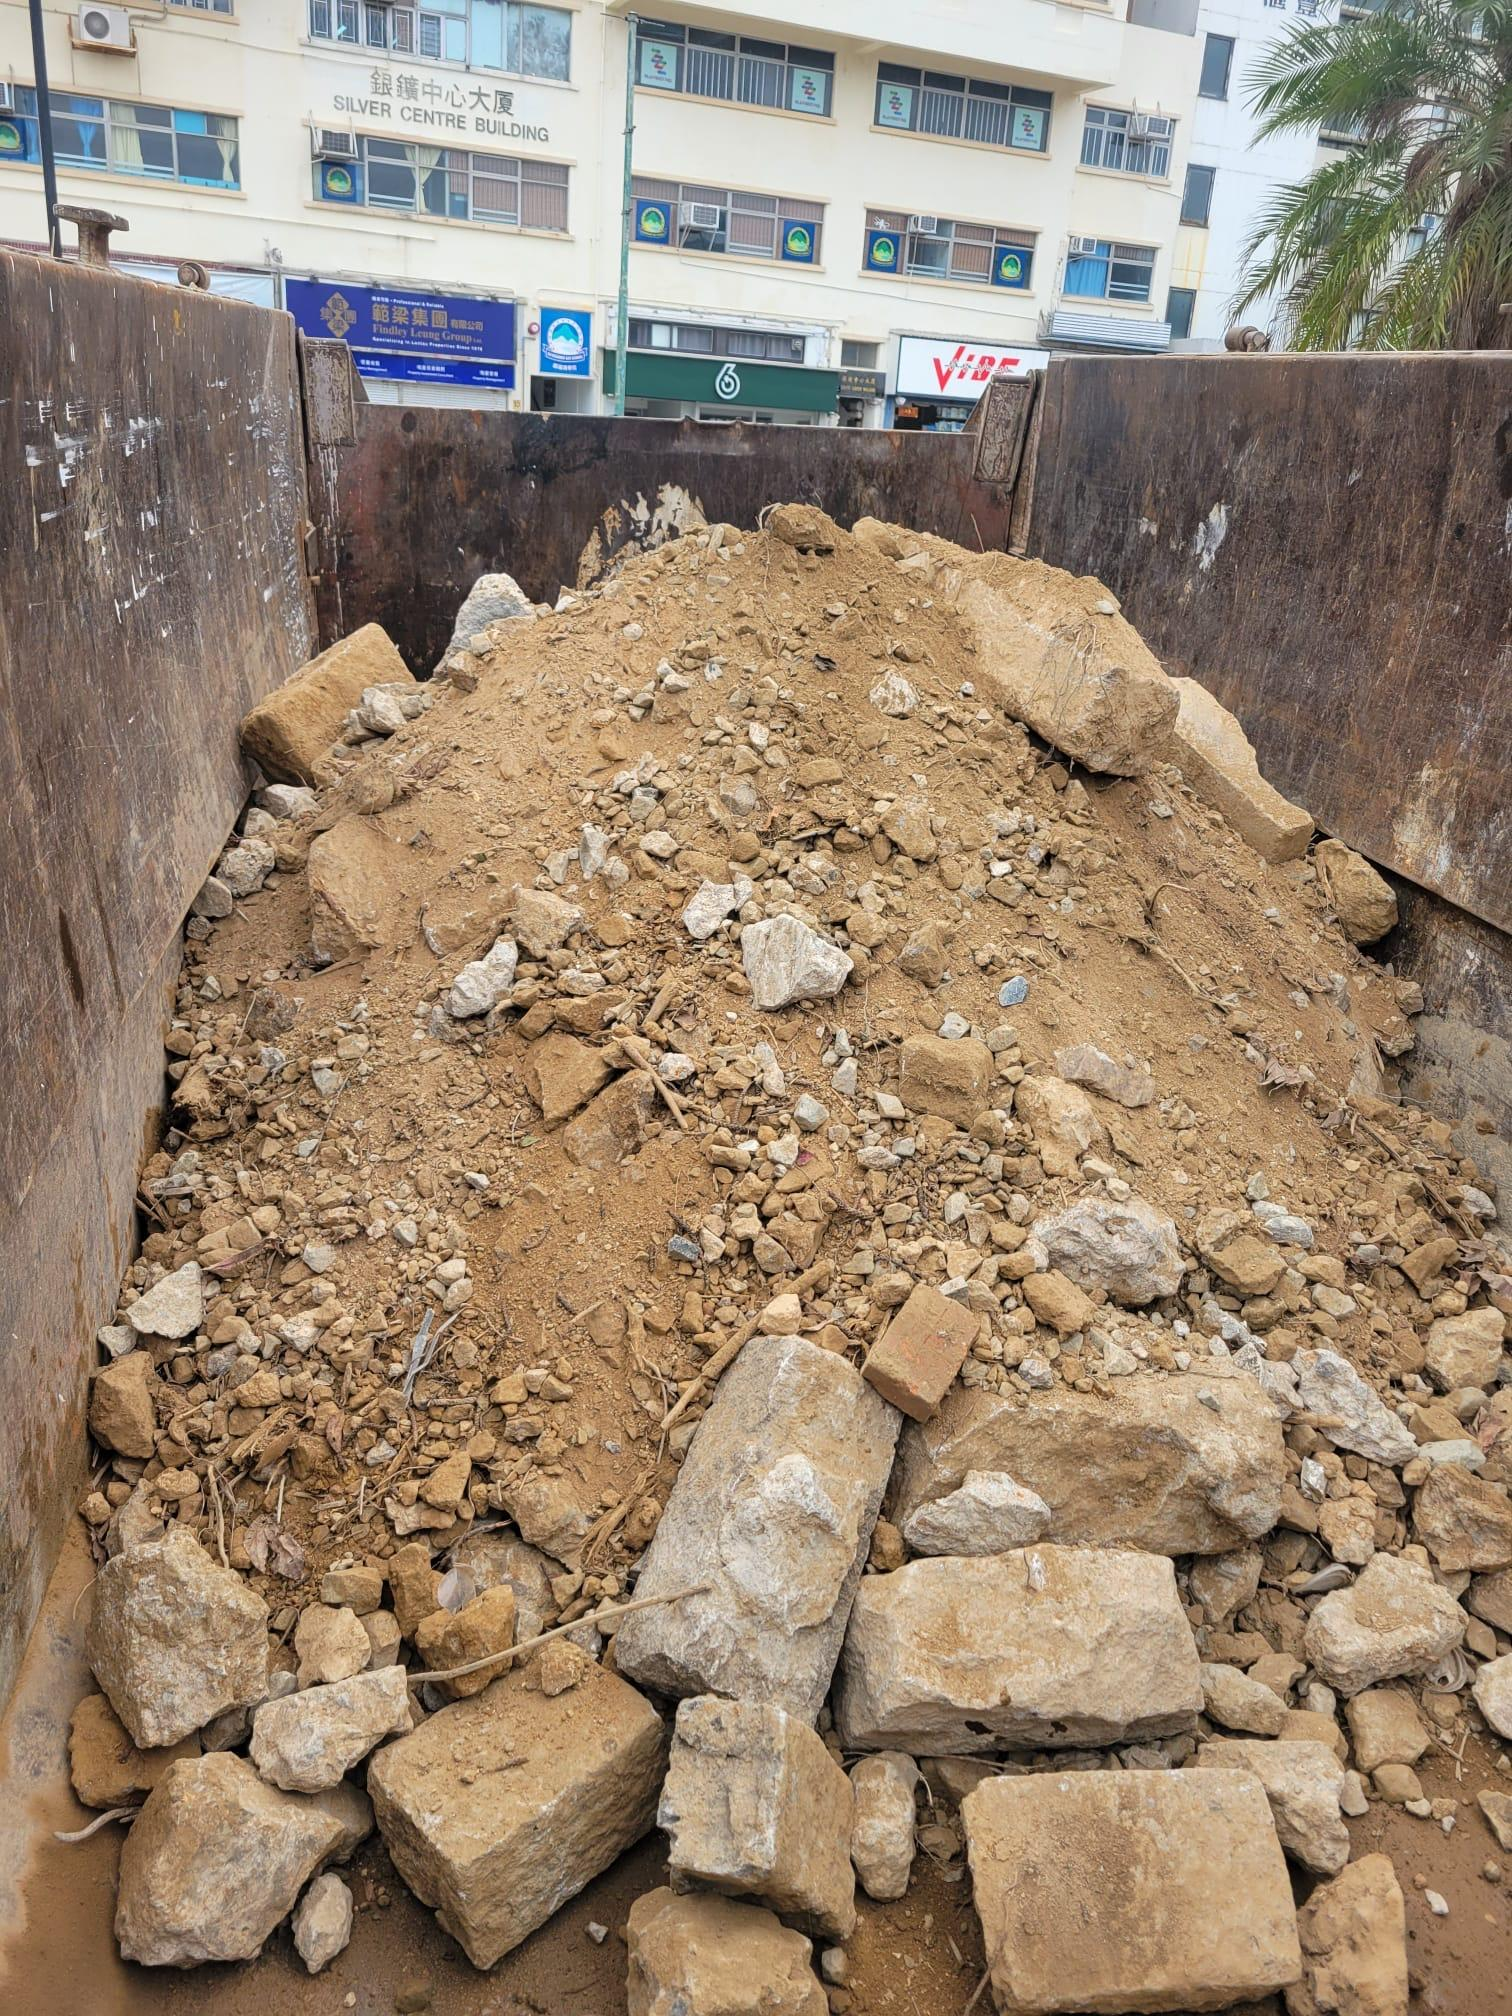dry: (400, 630, 1356, 2016)
